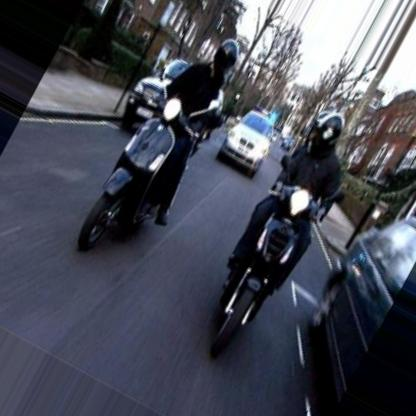with helmet: (302, 109, 346, 157), (213, 38, 237, 81)
